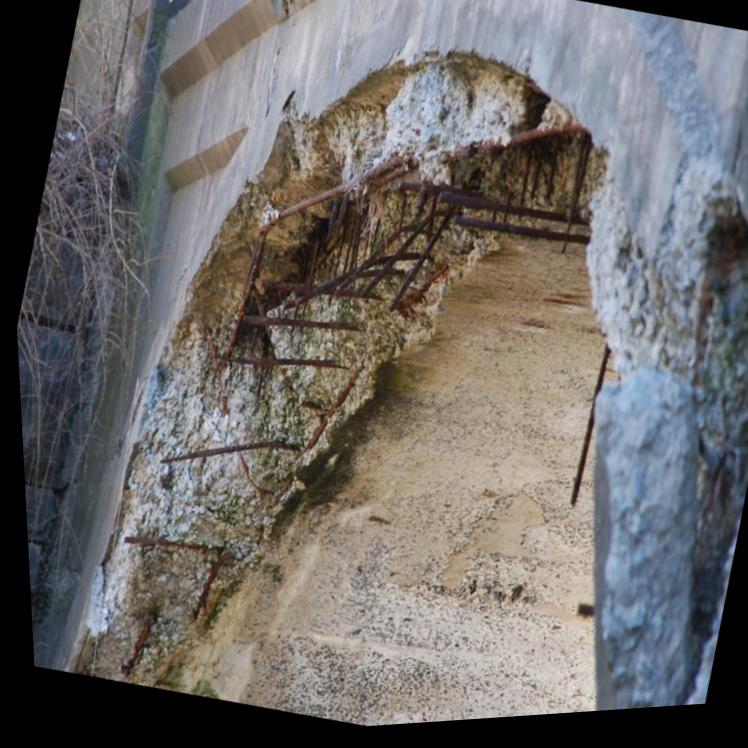crack: (263, 47, 283, 123)
damage: (65, 57, 598, 689), (586, 166, 748, 719), (277, 0, 298, 26)
